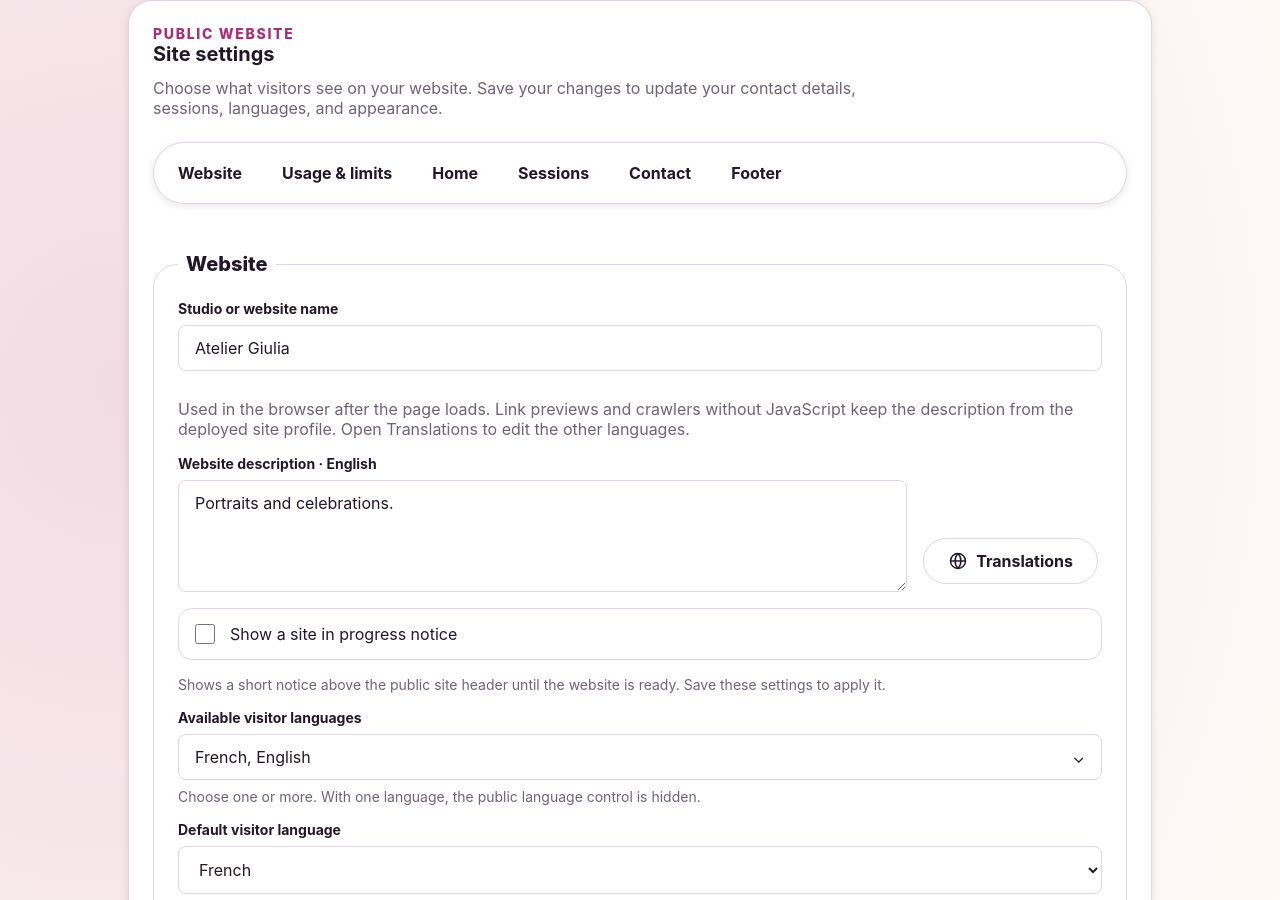
Test case: admin site copy › shows the admin language as the primary field without duplicating both languages on the page
expect the text box labelled "Website description · English" holds "Portraits and celebrations.": met, box [178,480,907,592]
Click the button with aria-label "Translations: Website description": (1011, 561) [923,538,1098,584]
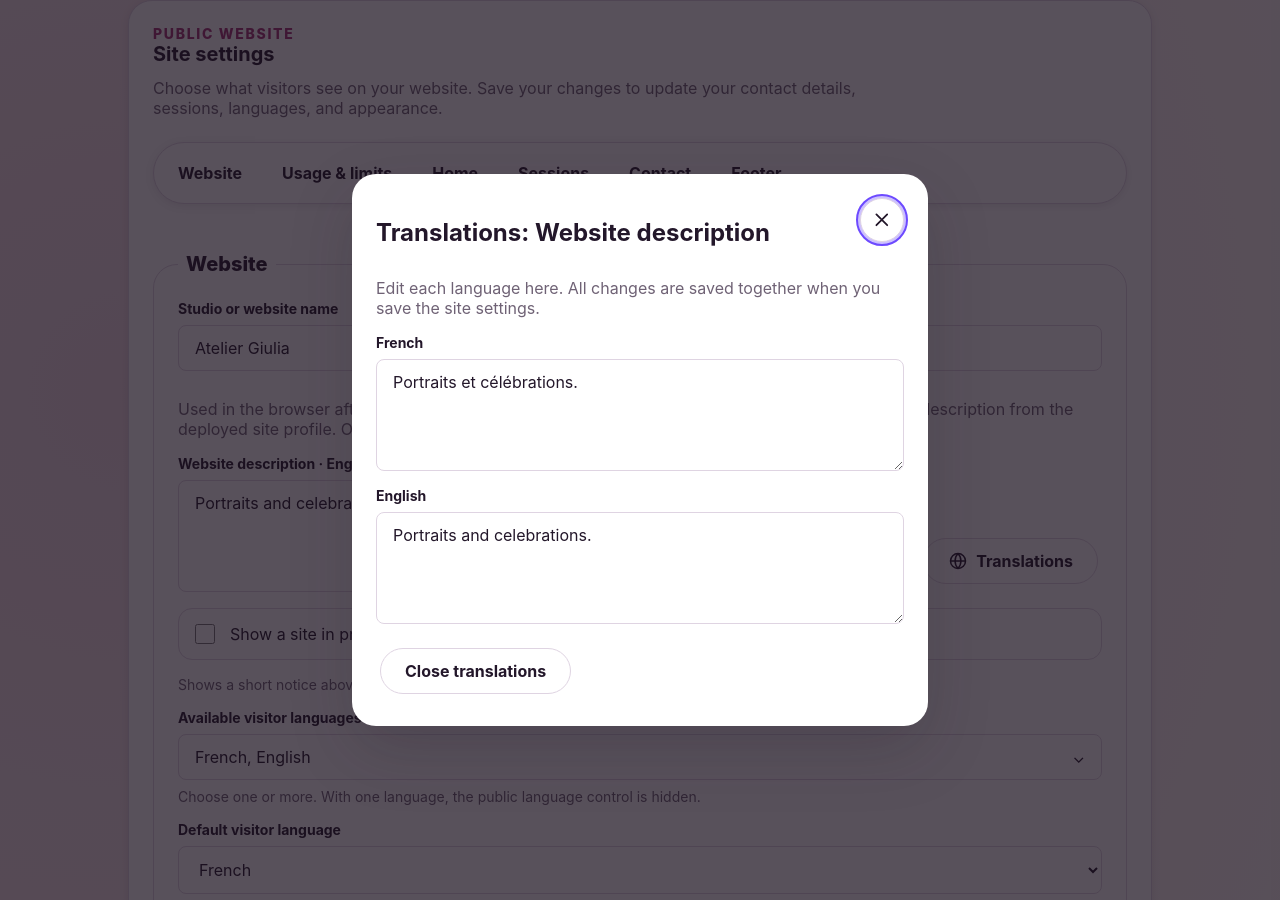
expect the text box labelled "French" holds "Portraits et célébrations.": met, box [376,359,904,471]
